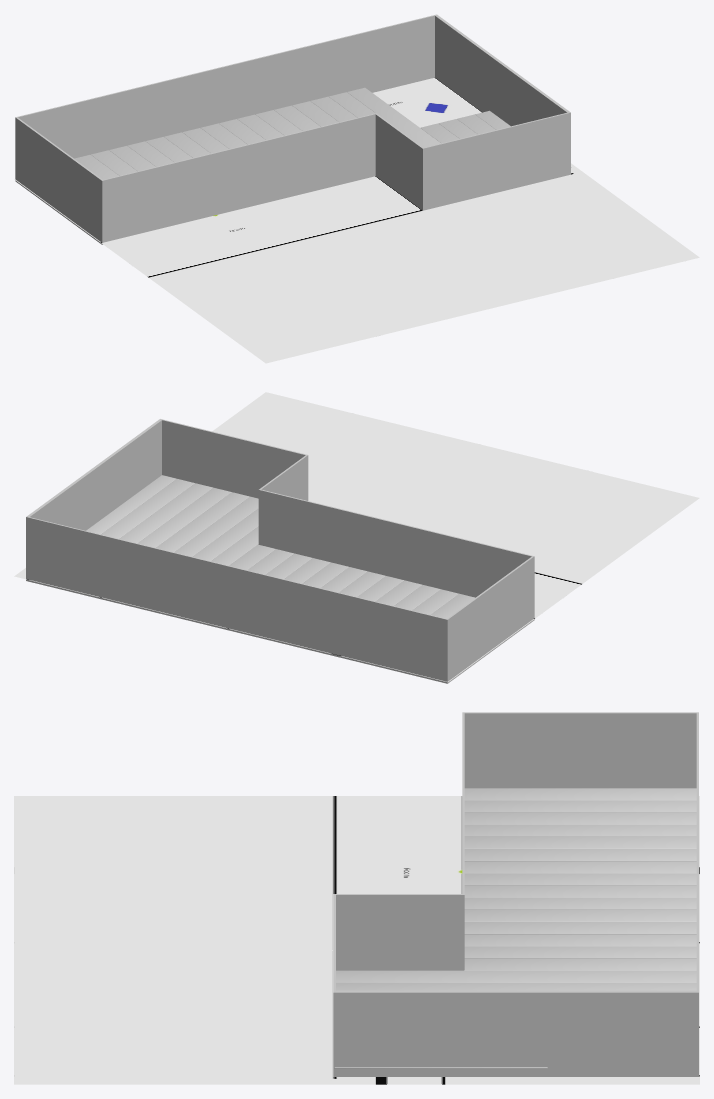
The model's file is Level2_Floor.fbx.
3 renders of one model, top to bottom at view 1: azimuth 30°, elevation 25°; view 2: azimuth 150°, elevation 25°; view 3: azimuth 270°, elevation 25°, orthographic. The views are drawn at different scales.
Visible parts, largest first — view 1: Plane, Walls, Floor; view 2: Walls, Plane, Floor; view 3: Plane, Walls, Floor.
Boxes of the visible parts, x1,y1,x2,y2 form: Plane: [14, 77, 699, 363]; Walls: [15, 14, 570, 244]; Floor: [74, 87, 571, 179]; Walls: [26, 419, 534, 683]; Plane: [14, 392, 699, 682]; Floor: [86, 475, 474, 618]; Plane: [14, 796, 699, 1084]; Walls: [333, 712, 698, 1076]; Floor: [334, 788, 696, 1068].
Bounding box in the file's own units: 1423 × 200 × 1429.
Materials: 1 (1 with a texture image).
